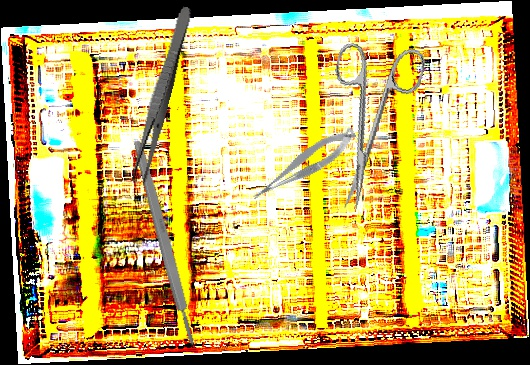Dressing Forceps: (128, 4, 194, 187)
Iris Scissors: (305, 33, 428, 219)
Micro Scissor: (244, 123, 363, 205)
Scalpel Handle: (130, 138, 199, 349)
